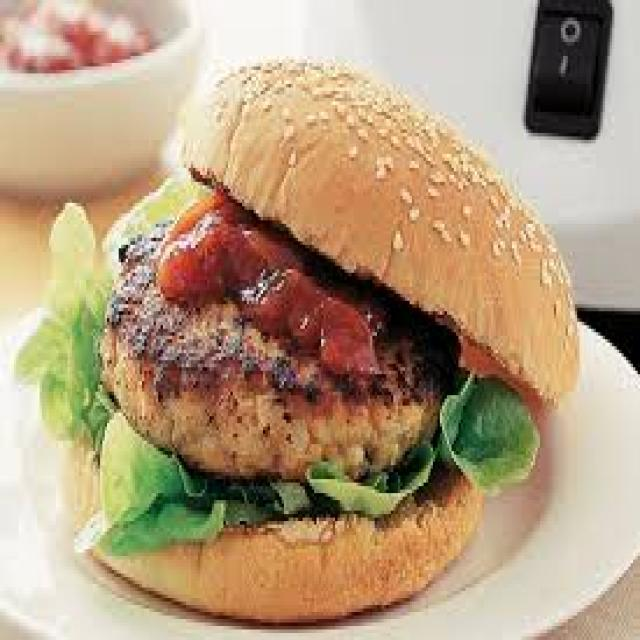햄버거: (47, 63, 575, 626)
